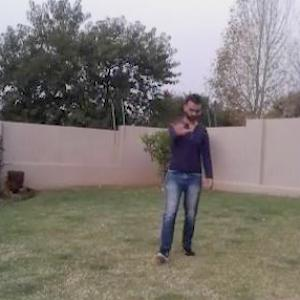follow_hand: (167, 107, 194, 136)
